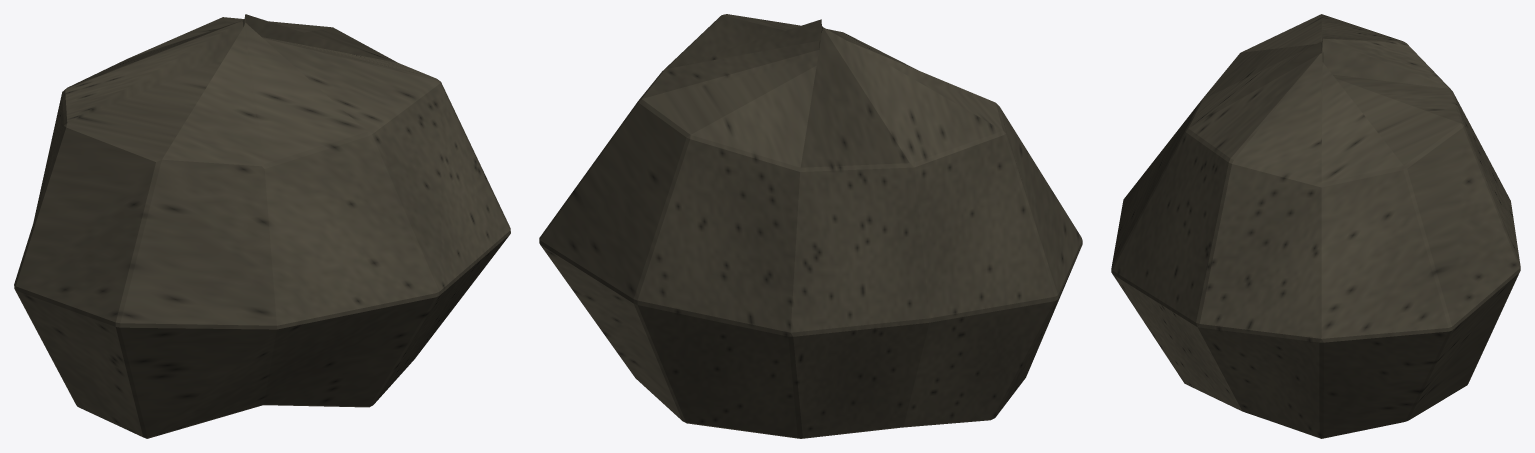
File: PROP-BB5EFFBC48E1_lod1.glb
3 renders of one model, left to right at view 1: azimuth 30°, elevation 25°; view 2: azimuth 150°, elevation 25°; view 3: azimuth 270°, elevation 25°, orthographic. The views are drawn at different scales.
Parts seen in each view (by area): view 1: rock.003; view 2: rock.003; view 3: rock.003.
Part boxes in pixels (<box>): rock.003: <box>14,14,510,438</box>; rock.003: <box>539,14,1082,438</box>; rock.003: <box>1111,14,1520,438</box>.
Size of the model in its own units: 0.8302 by 0.604 by 0.684.
1 material, 1 textured.
